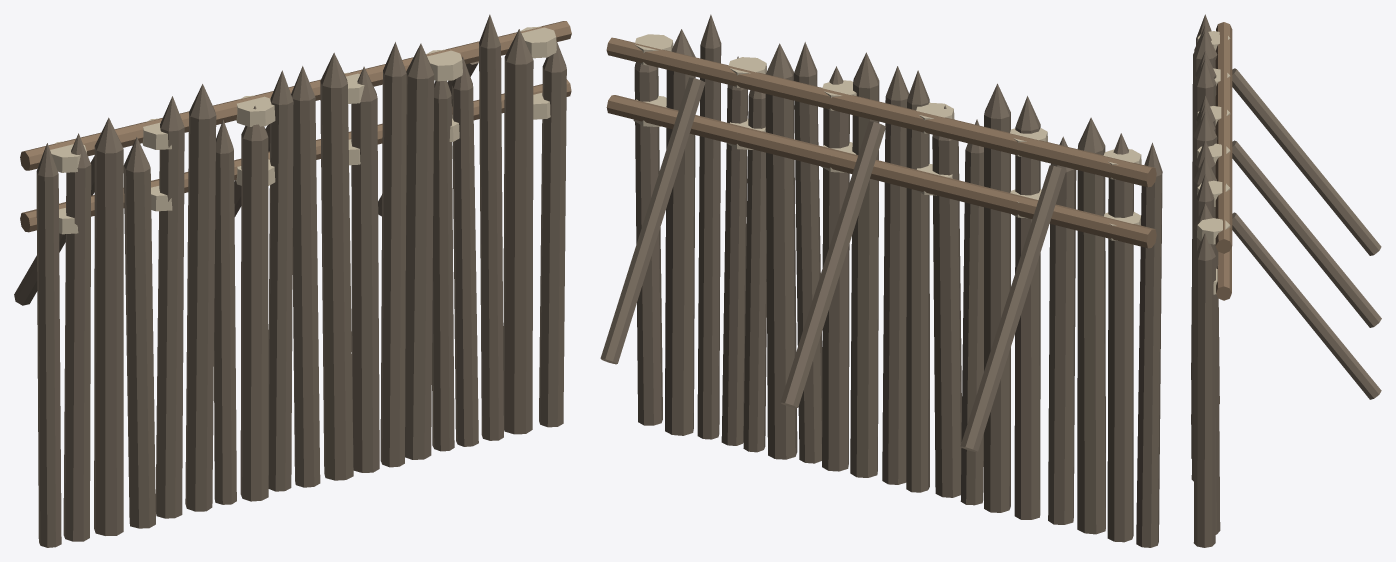
File: H03_水寨木栅.fbx
The picture shows the model from 3 angles, left to right: view 1: azimuth 30°, elevation 25°; view 2: azimuth 150°, elevation 25°; view 3: azimuth 270°, elevation 25°; orthographic projection. The views are drawn at different scales.
Visible parts, largest first — view 1: H03_栅桩, H03_绑绳, H03_横档, H03_斜撑; view 2: H03_栅桩, H03_横档, H03_斜撑, H03_绑绳; view 3: H03_栅桩, H03_斜撑, H03_横档, H03_绑绳.
Part boxes in pixels (box(x1,y1,x2,y2)): H03_栅桩: box(36, 14, 566, 547); H03_绑绳: box(50, 26, 556, 234); H03_横档: box(20, 21, 571, 232); H03_斜撑: box(14, 61, 478, 305); H03_栅桩: box(634, 14, 1162, 547); H03_横档: box(606, 37, 1156, 248); H03_斜撑: box(600, 77, 1066, 452); H03_绑绳: box(633, 34, 1141, 240); H03_栅桩: box(1191, 14, 1220, 547); H03_斜撑: box(1232, 68, 1381, 399); H03_横档: box(1215, 22, 1232, 300); H03_绑绳: box(1197, 31, 1230, 294).
Bounding box in the file's own units: 600 × 448 × 224.
